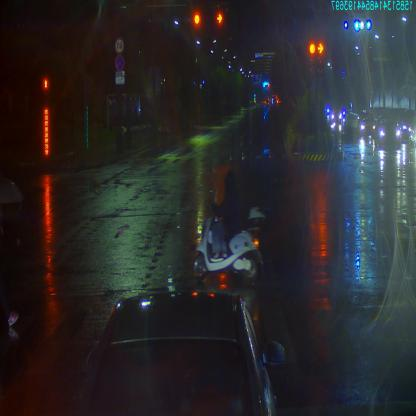traffic-light: (190, 12, 202, 25), (216, 13, 224, 24)
